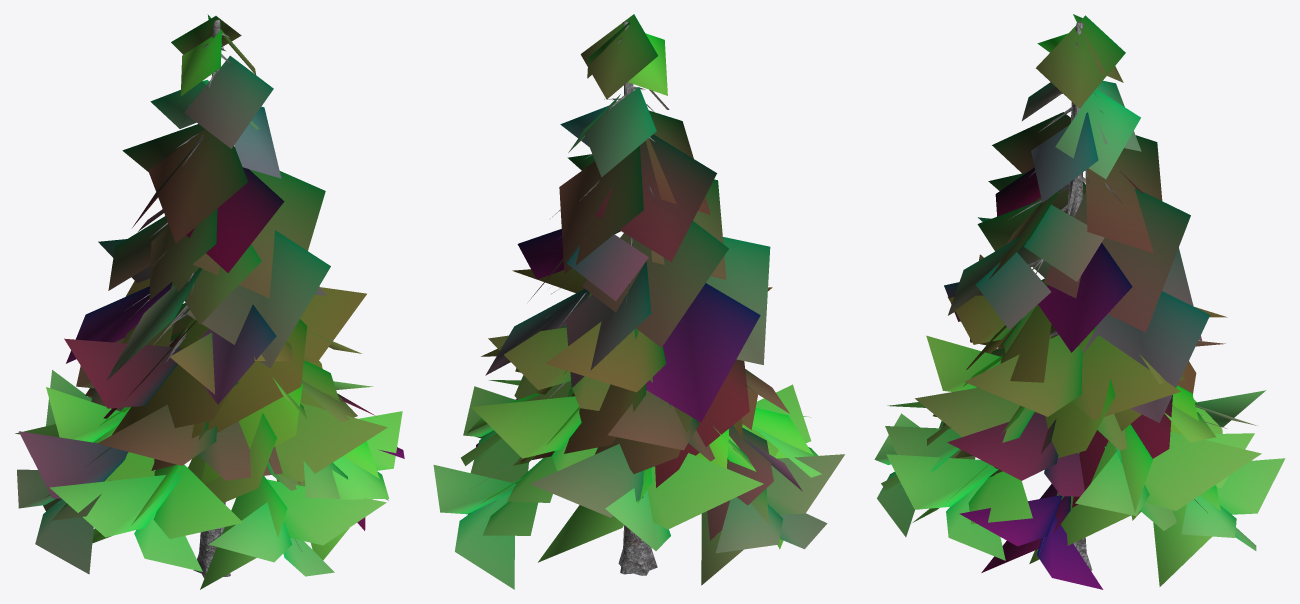
File: Spruce_LOD2.fbx
3 views of the same model, side by side, from view 1: azimuth 30°, elevation 25°; view 2: azimuth 150°, elevation 25°; view 3: azimuth 270°, elevation 25° (orthographic).
Parts seen in each view (by area): view 1: Foliage, Bark; view 2: Foliage, Bark; view 3: Foliage, Bark.
Part boxes in pixels (left/top/right/bottom): Foliage: left=15, top=14, right=404, bottom=589; Bark: left=50, top=19, right=301, bottom=578; Foliage: left=433, top=14, right=844, bottom=589; Bark: left=470, top=21, right=737, bottom=575; Foliage: left=874, top=14, right=1285, bottom=589; Bark: left=953, top=21, right=1226, bottom=570.
Size of the model in its own units: 3.99 by 6.13 by 4.11.
